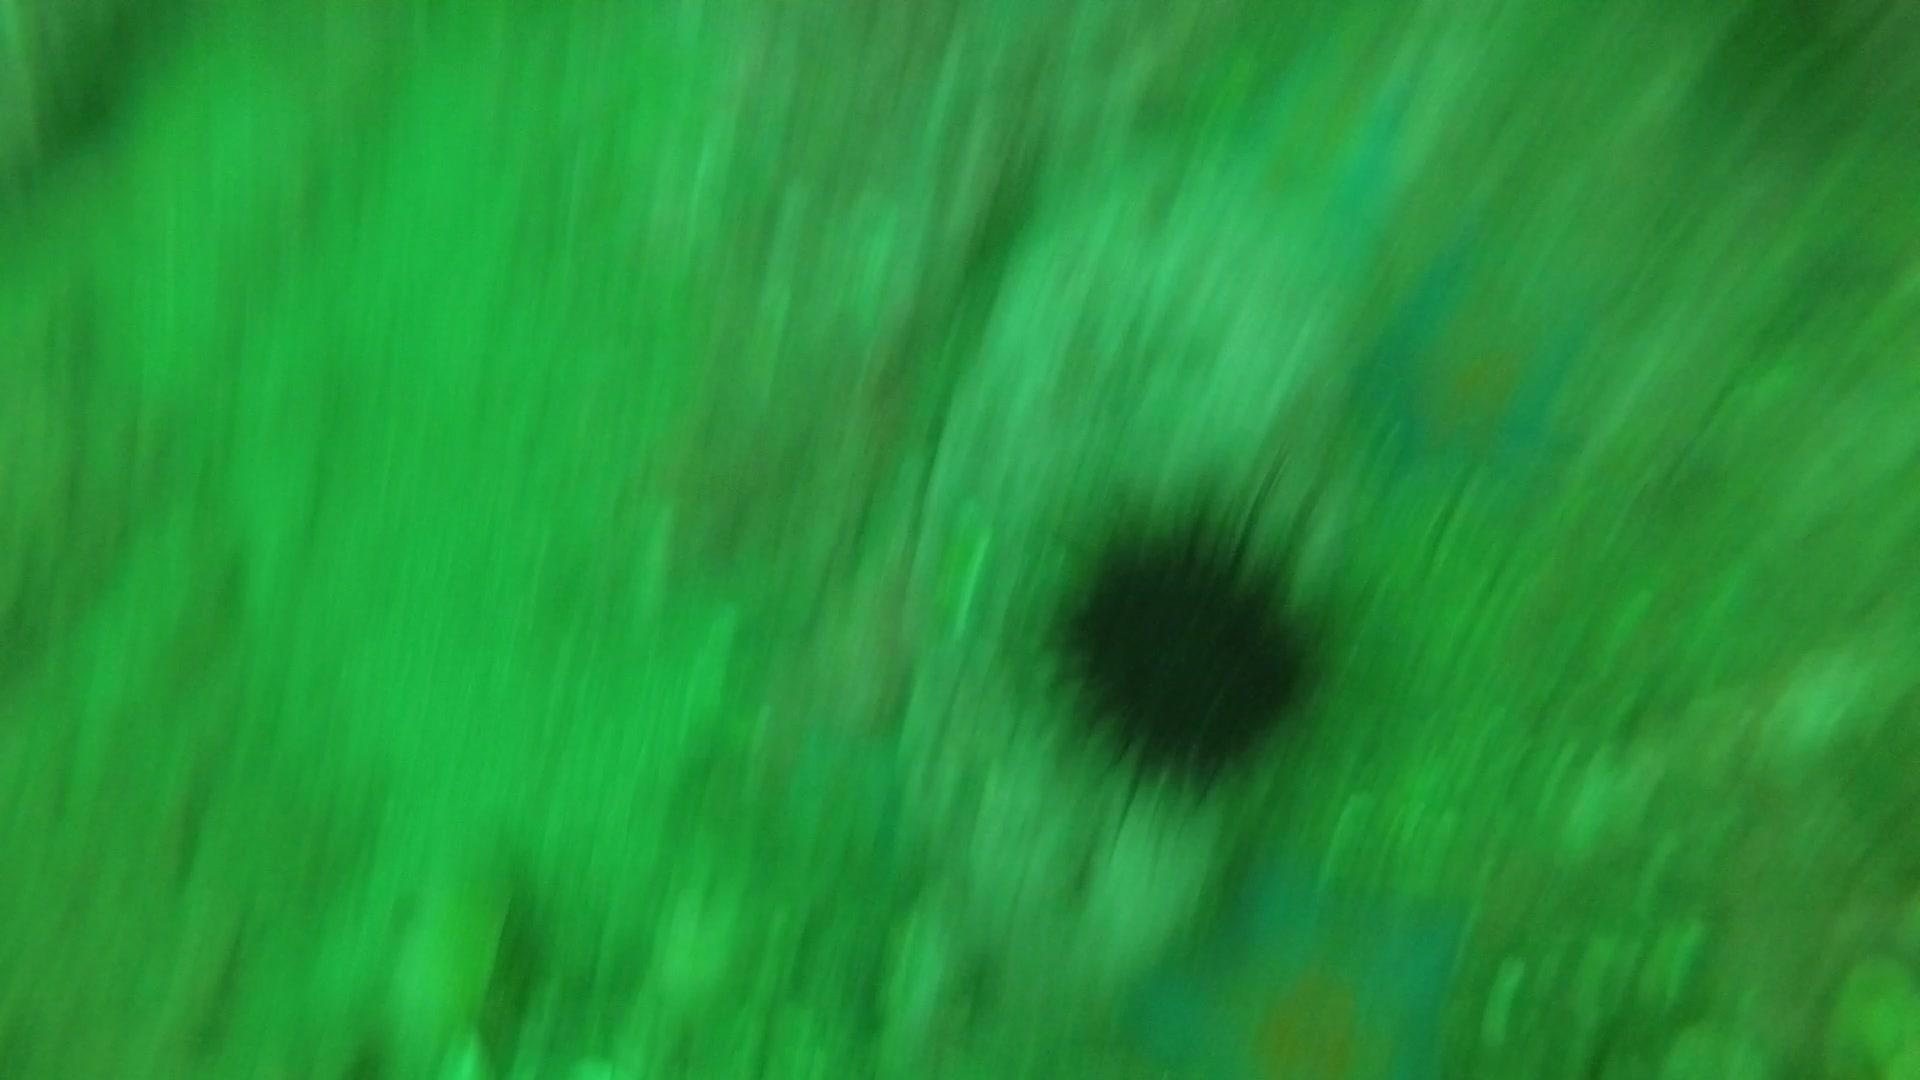echinus: (1046, 505, 1331, 793)
starfish: (1124, 851, 1480, 1073), (1356, 261, 1600, 495), (1221, 33, 1432, 243)
